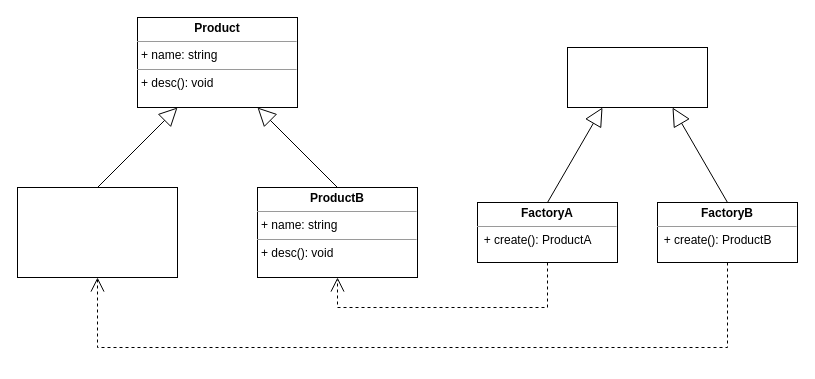
Some shapes in this 815 by 379 pixel diagram are drawn without their labels. The box of each missing label's shape, as (x1, y1, x2, y2) in pixels:
Factory + create(): Product: (566, 46, 708, 108)
ProductA + name: string + desc(): void: (16, 186, 178, 278)
